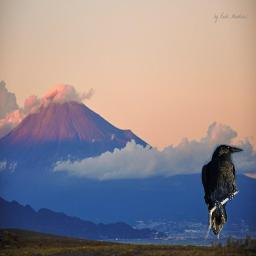Crow: (201, 144, 244, 241)
